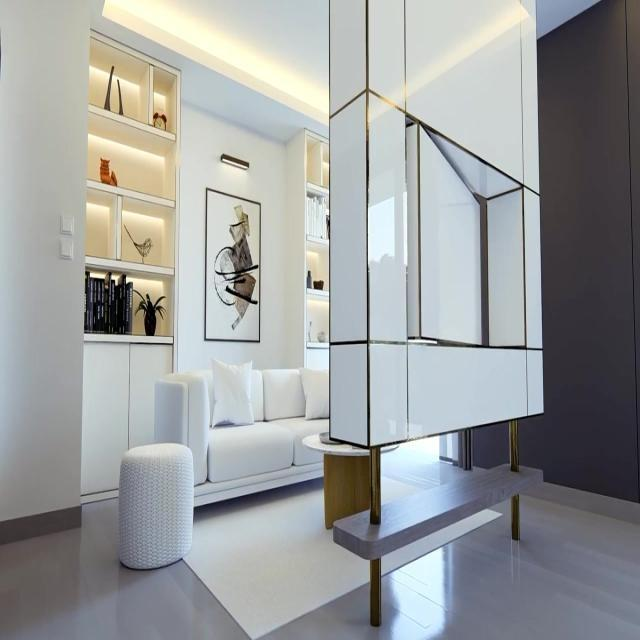obstacle: (81, 29, 181, 504), (153, 366, 330, 508)
